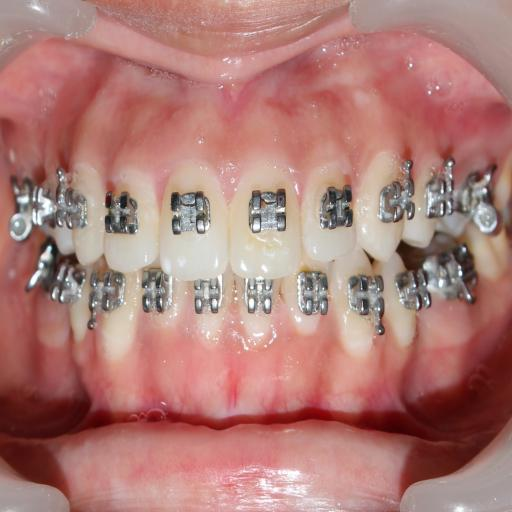correct_brace: (242, 180, 292, 238), (166, 186, 214, 236), (316, 180, 358, 236), (103, 187, 145, 240)
incorrect_brace: (100, 161, 162, 277), (303, 153, 358, 264)
